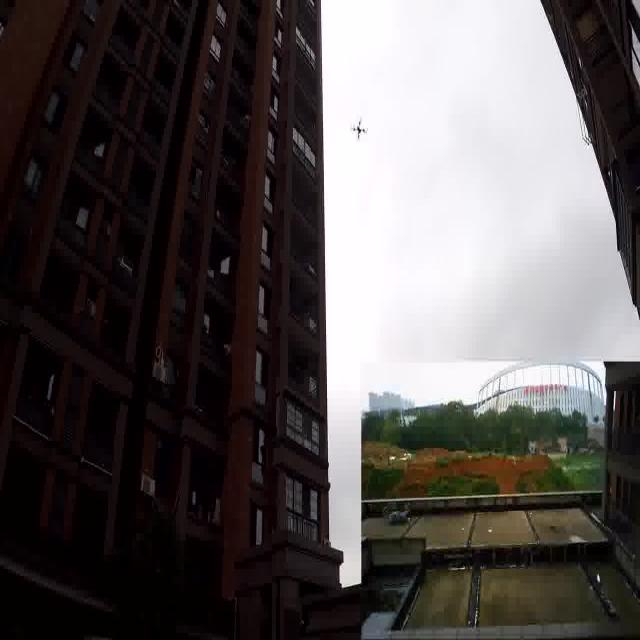drone: (349, 116, 368, 140)
